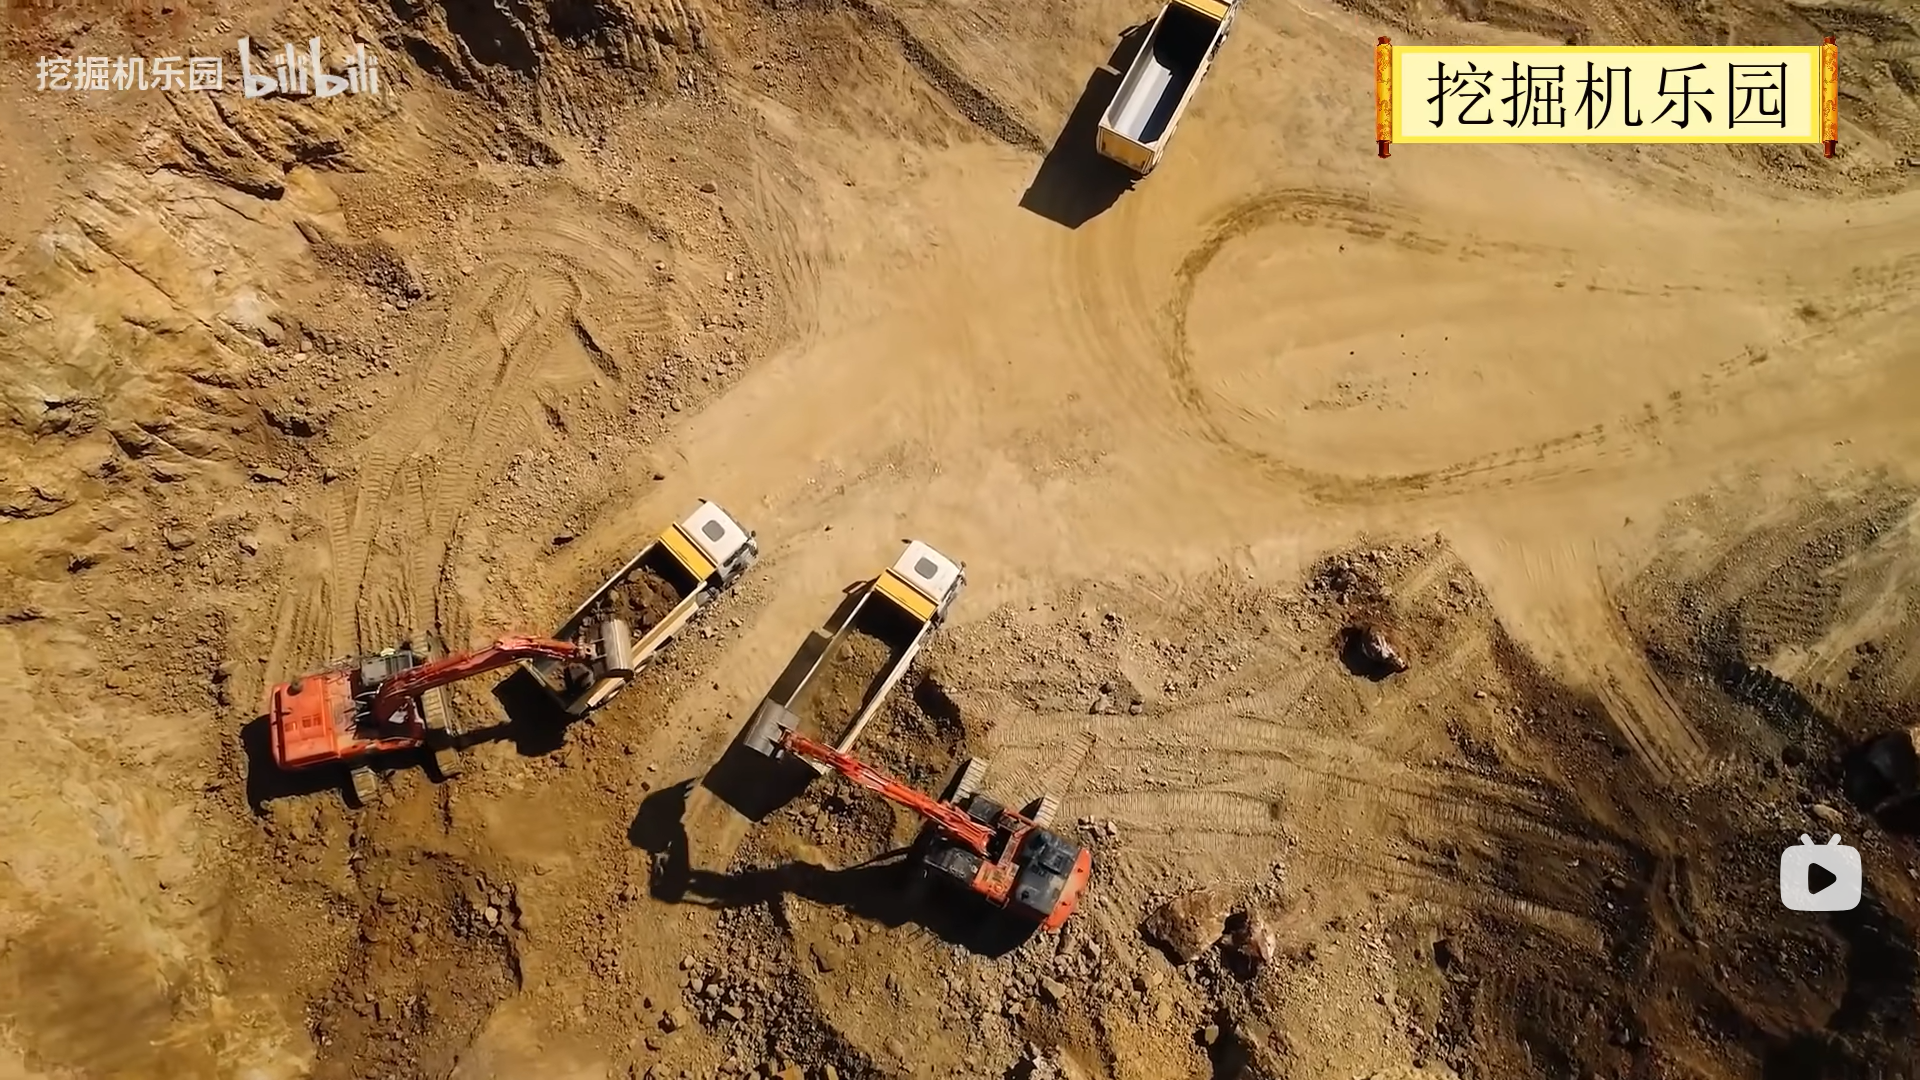excavator: (746, 698, 1115, 942), (257, 623, 643, 808)
